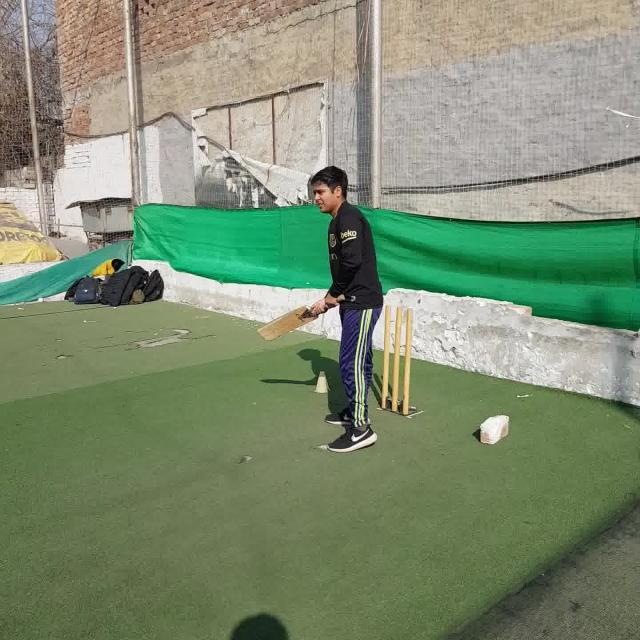ball: (38, 298, 43, 302)
bat: (256, 294, 345, 342)
